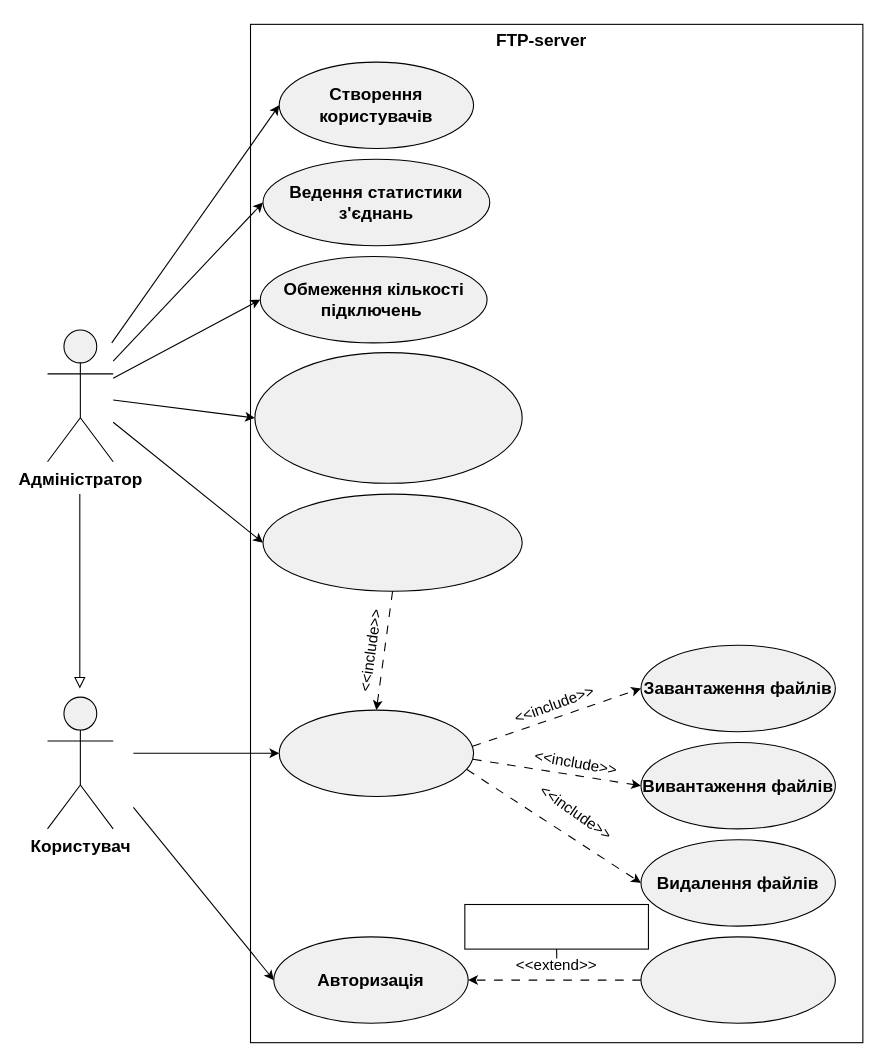
Some shapes in this 882 by 1062 pixel diagram are drawn without their labels. Each missing label, with the centre of its shape:
"Обмеження швидкості передачі даних глобально та для певного користувача" goes at (388,417).
"Помилка авторизації" goes at (737,979).
"Робота із файлами" goes at (376,752).
"Розподіл прав доступу до файлів" goes at (392,542).
"Умова: {невірні облікові дані} Точка розширення: помилка" goes at (556,926).
